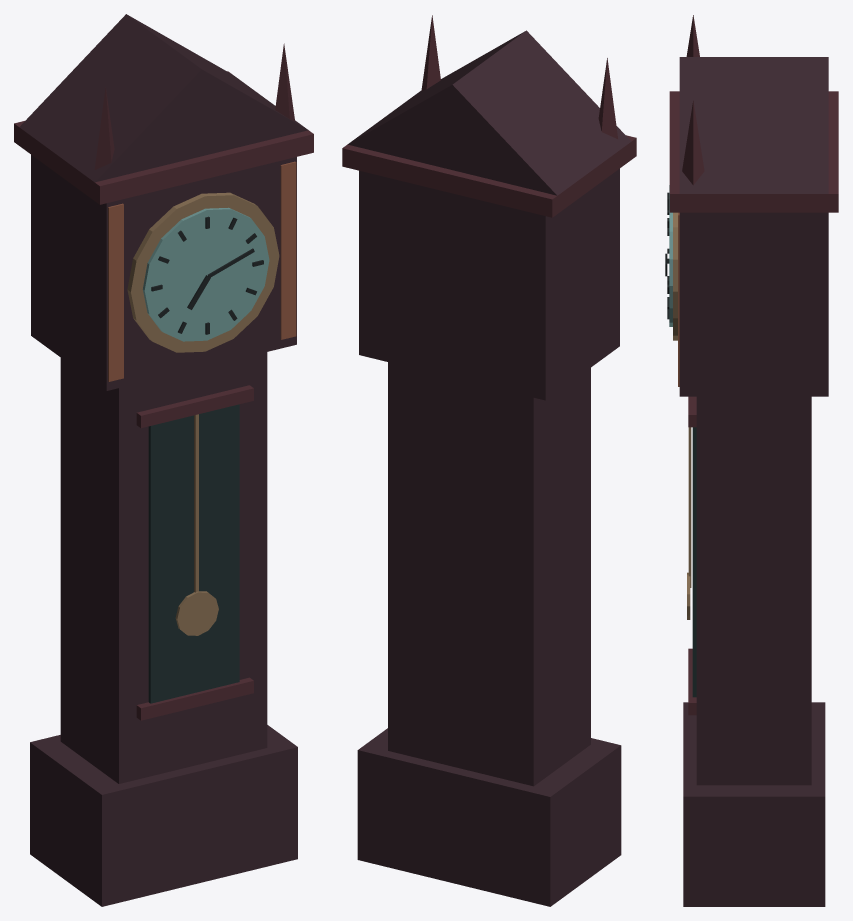
Rendered from ceas_pendul.glb.
The picture shows the model from 3 angles, left to right: view 1: azimuth 30°, elevation 25°; view 2: azimuth 150°, elevation 25°; view 3: azimuth 270°, elevation 25°; orthographic projection.
Visible parts, largest first — view 1: Ceas, Pendul; view 2: Ceas; view 3: Ceas, Pendul.
Boxes of the visible parts, bbox=[...] form: Ceas: bbox=[14, 14, 313, 906]; Pendul: bbox=[175, 414, 218, 635]; Ceas: bbox=[342, 15, 636, 906]; Ceas: bbox=[665, 15, 838, 906]; Pendul: bbox=[687, 427, 691, 619].
Bounding box in the file's own units: 0.72 × 2.62 × 0.513.
